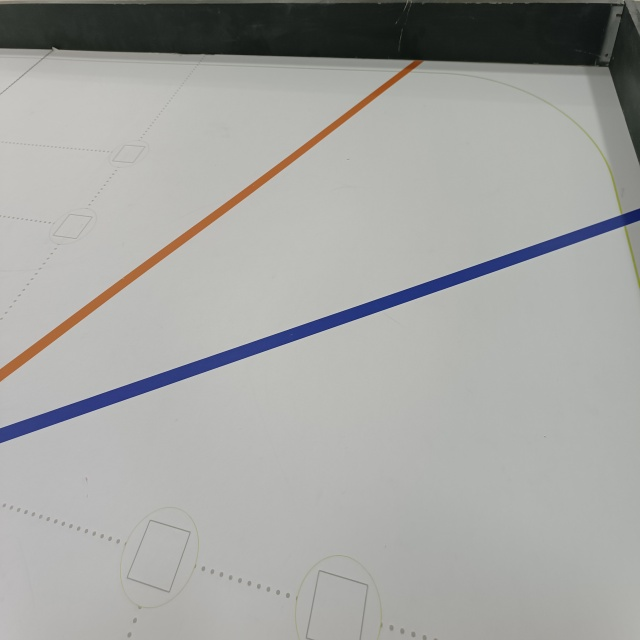blue line: (0, 203, 640, 447)
orange line: (0, 53, 422, 386)
